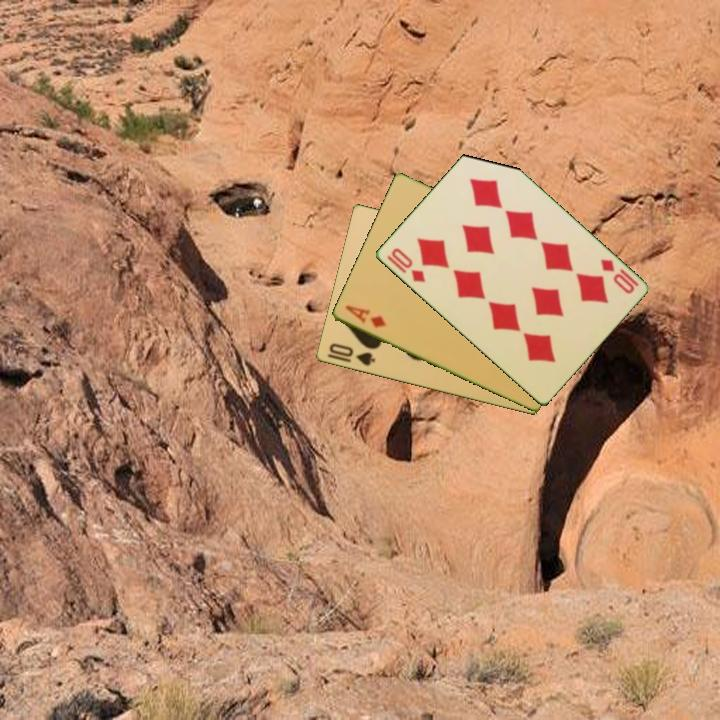10d: (597, 255, 642, 297), (387, 244, 428, 286)
10s: (325, 340, 378, 369)
Ad: (342, 302, 389, 331)
